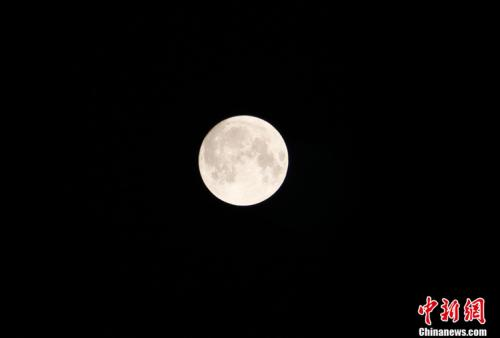moon: (197, 114, 289, 206)
